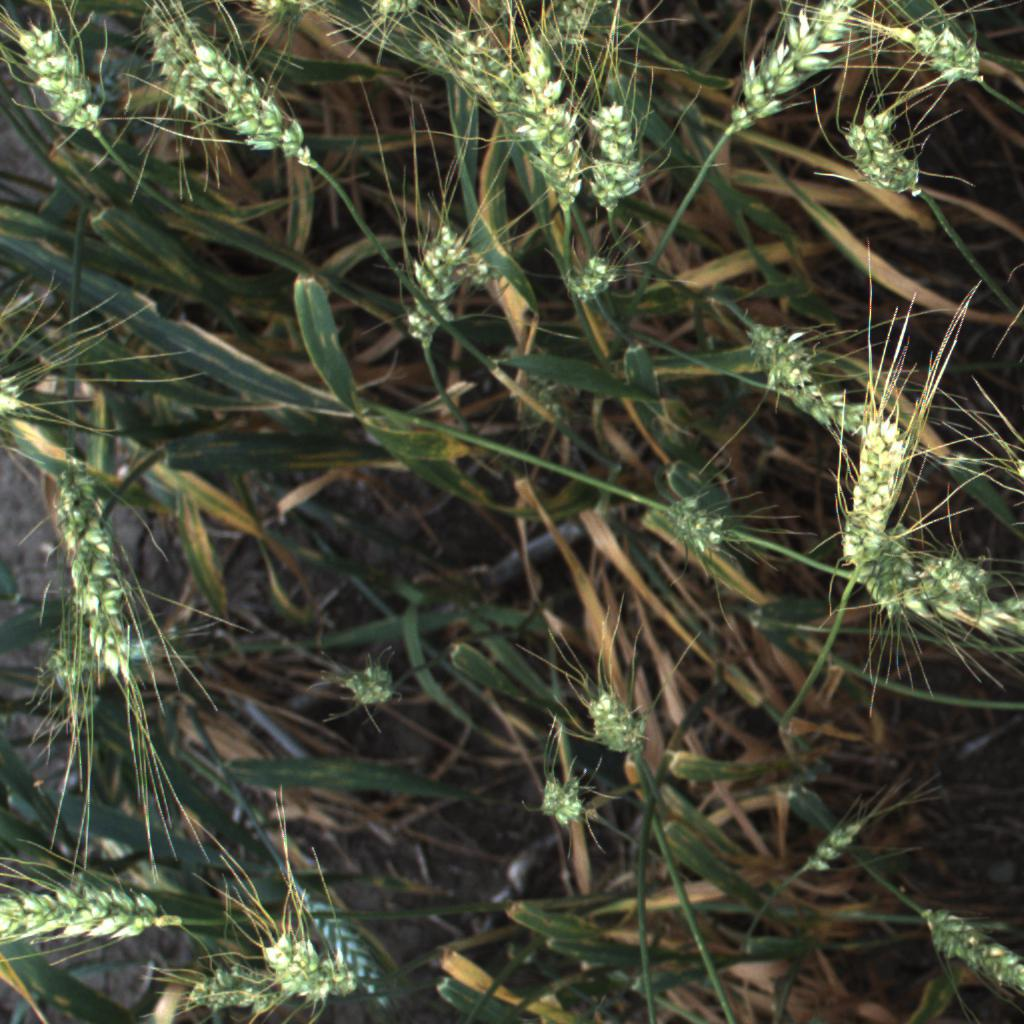0-0: (707, 0, 891, 133), (190, 6, 322, 184), (50, 462, 150, 692), (856, 561, 1024, 681), (508, 27, 602, 218), (278, 877, 404, 1013), (825, 397, 918, 581), (759, 366, 927, 460), (3, 20, 113, 146), (388, 213, 486, 352), (0, 877, 171, 954), (740, 318, 846, 439), (918, 889, 1024, 1003), (576, 77, 655, 227), (565, 663, 665, 780), (835, 101, 938, 214), (128, 4, 216, 124), (442, 24, 536, 136), (174, 953, 317, 1023), (258, 925, 363, 1015), (646, 471, 743, 564), (878, 20, 997, 91), (784, 806, 863, 885), (556, 240, 635, 310), (528, 0, 606, 68), (528, 764, 592, 832), (334, 653, 399, 719), (0, 348, 48, 437), (239, 0, 342, 28), (353, 0, 439, 25)
